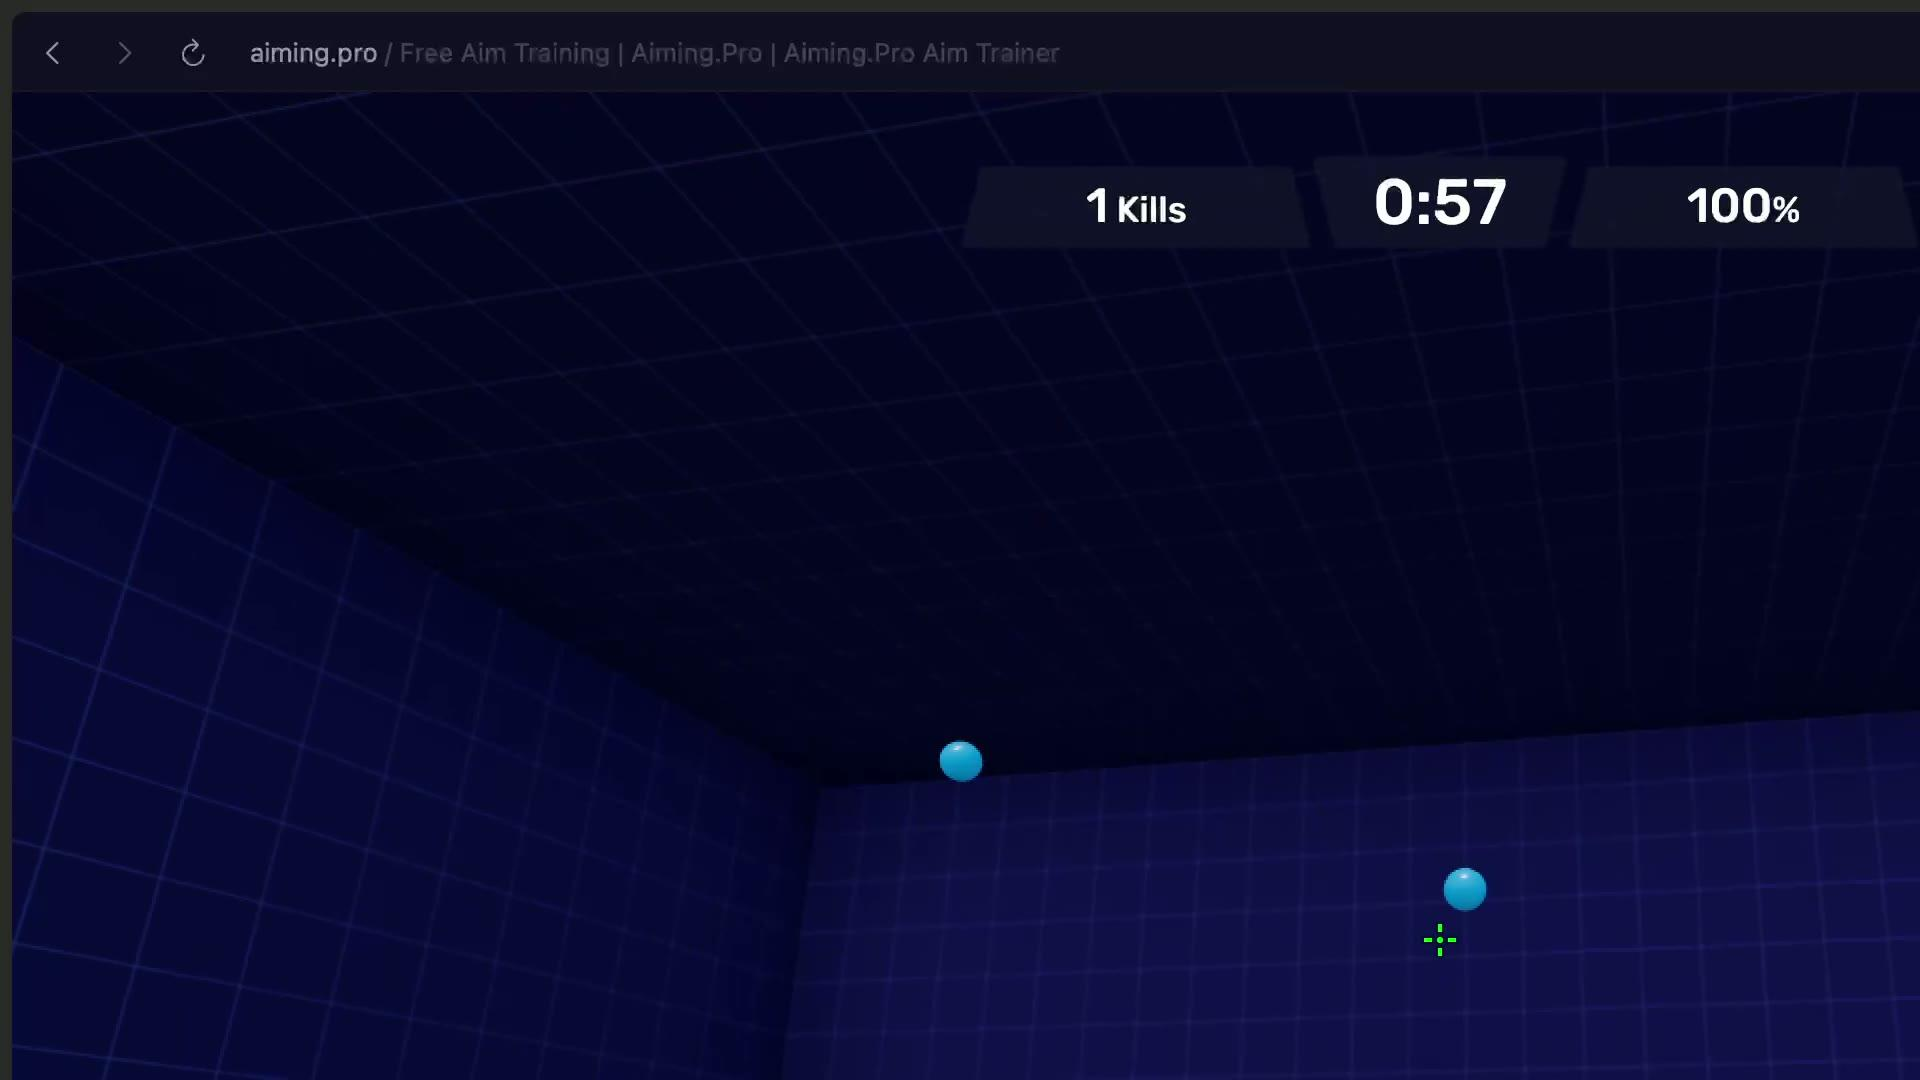target: (1443, 866, 1487, 911), (938, 741, 982, 781)
